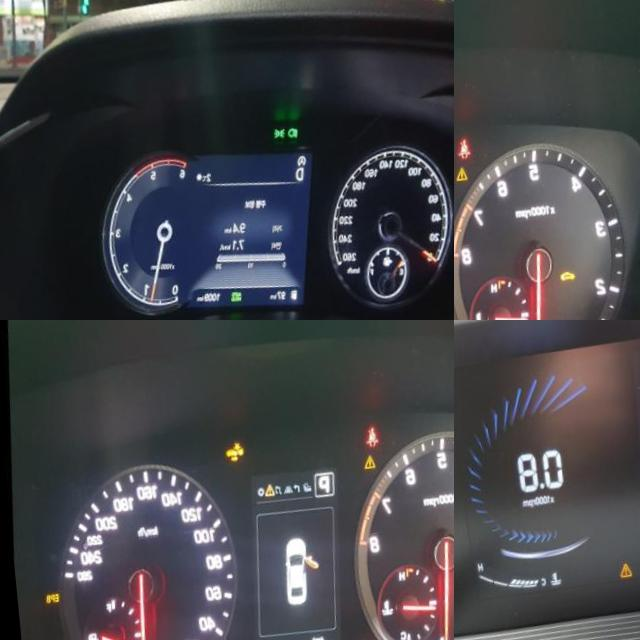Central Warning lamp: (612, 569, 626, 587), (360, 465, 373, 483), (454, 177, 464, 195)
Low beam: (282, 137, 295, 152)
SideLamp: (268, 138, 282, 152)
